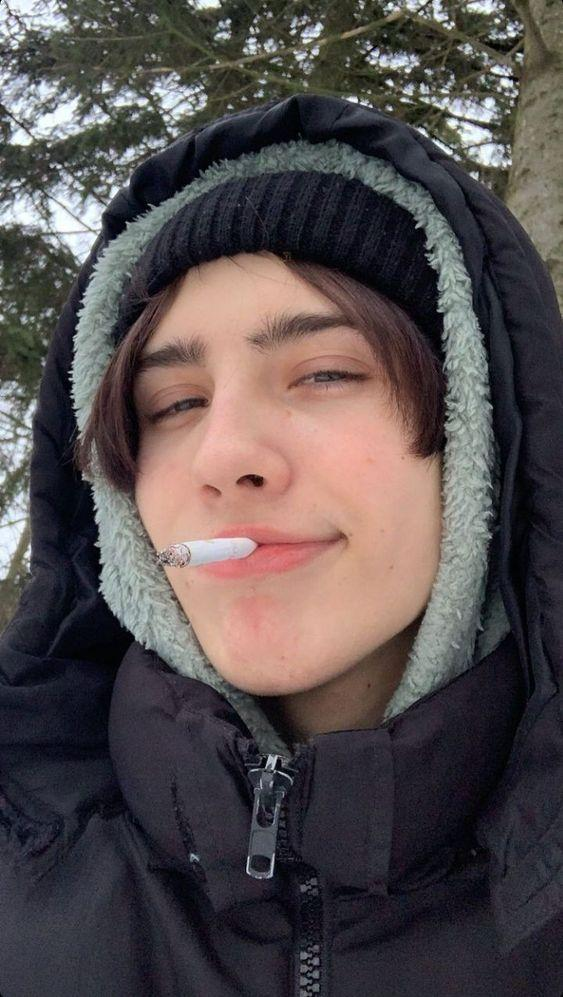cigarette: (155, 537, 259, 567)
